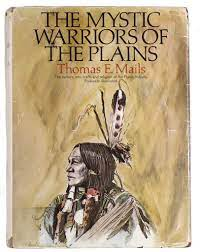book: (4, 7, 191, 248)
